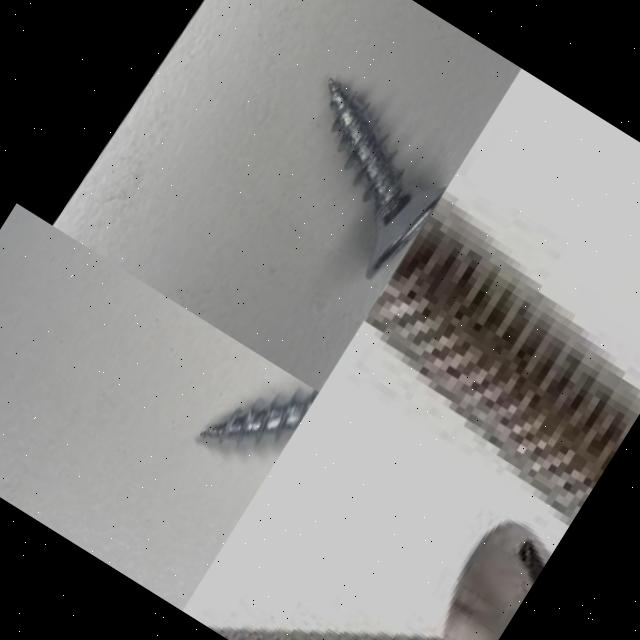Screw: (366, 197, 640, 526), (204, 518, 551, 640), (327, 80, 446, 280), (199, 390, 318, 445)
